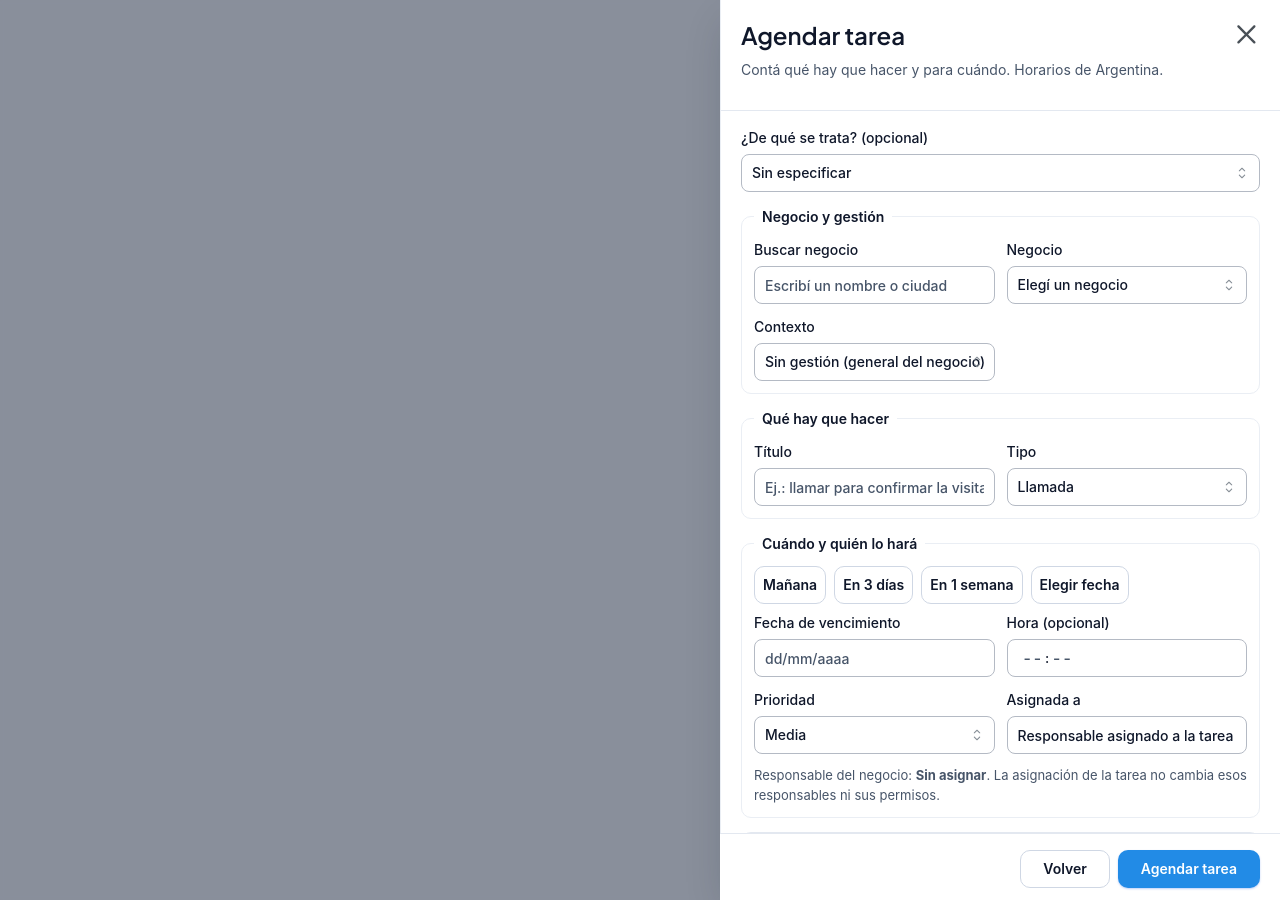
it: a business search with a single result offers it in one click (spec 104, 32; review M2: never picked by itself) › one result shows «Elegir H9 · Hotel Sol · Colón» under the search, keeps the search mounted and picks nothing until clicked
The width and height of the screenshot is (1280, 900).
Type "sol" into the field labelled "Buscar negocio" at coordinates (874, 285), box x1=754 y1=266 x2=994 y2=304
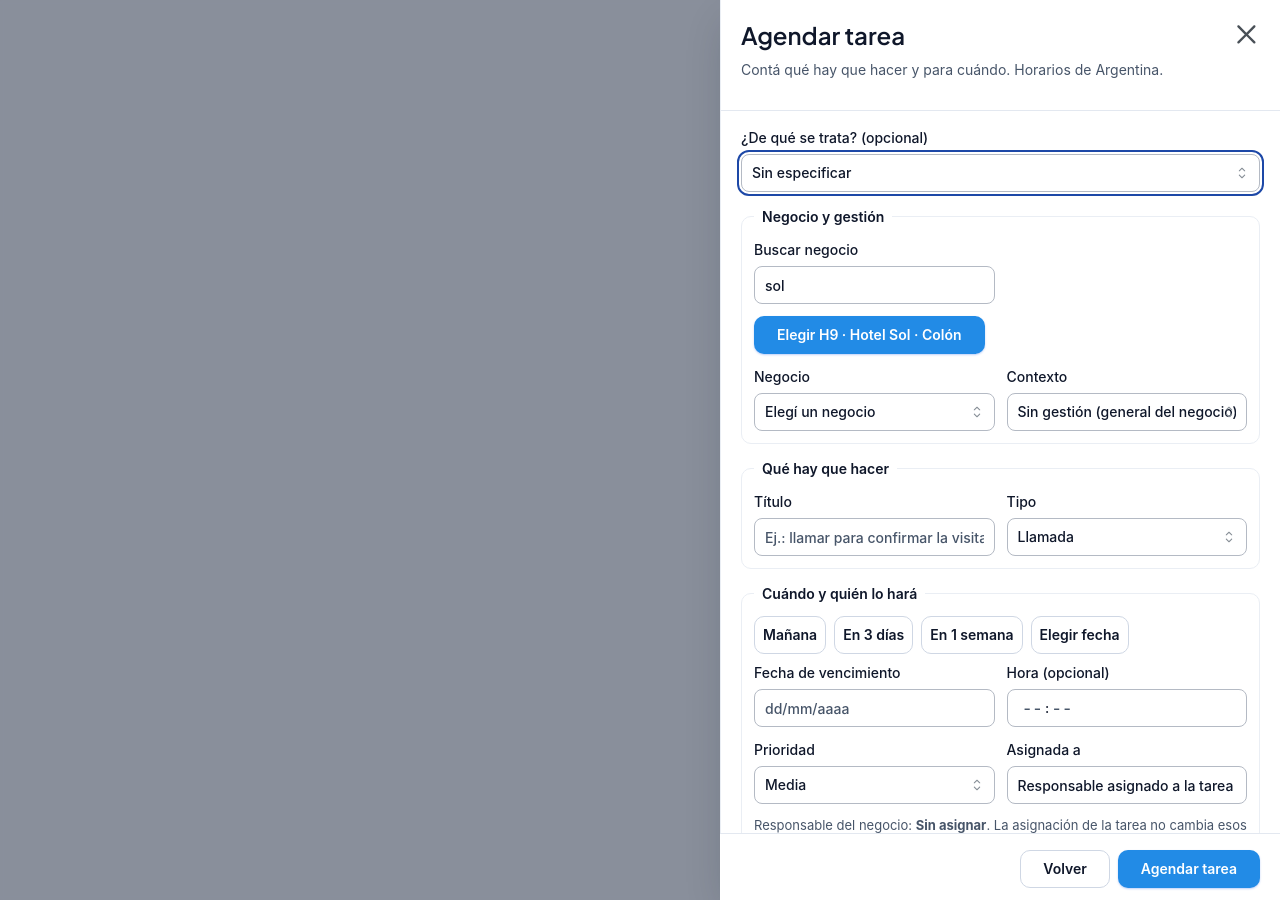
Expected: the dropdown labelled "Negocio" shows "Elegí un negocio", x1=754 y1=393 x2=994 y2=431
Expected: the button "Elegir H9 · Hotel Sol · Colón" is shown, x1=754 y1=316 x2=984 y2=354
Replace the text in the field labelled "Buscar negocio" with "sol y" at coordinates (874, 285), box x1=754 y1=266 x2=994 y2=304
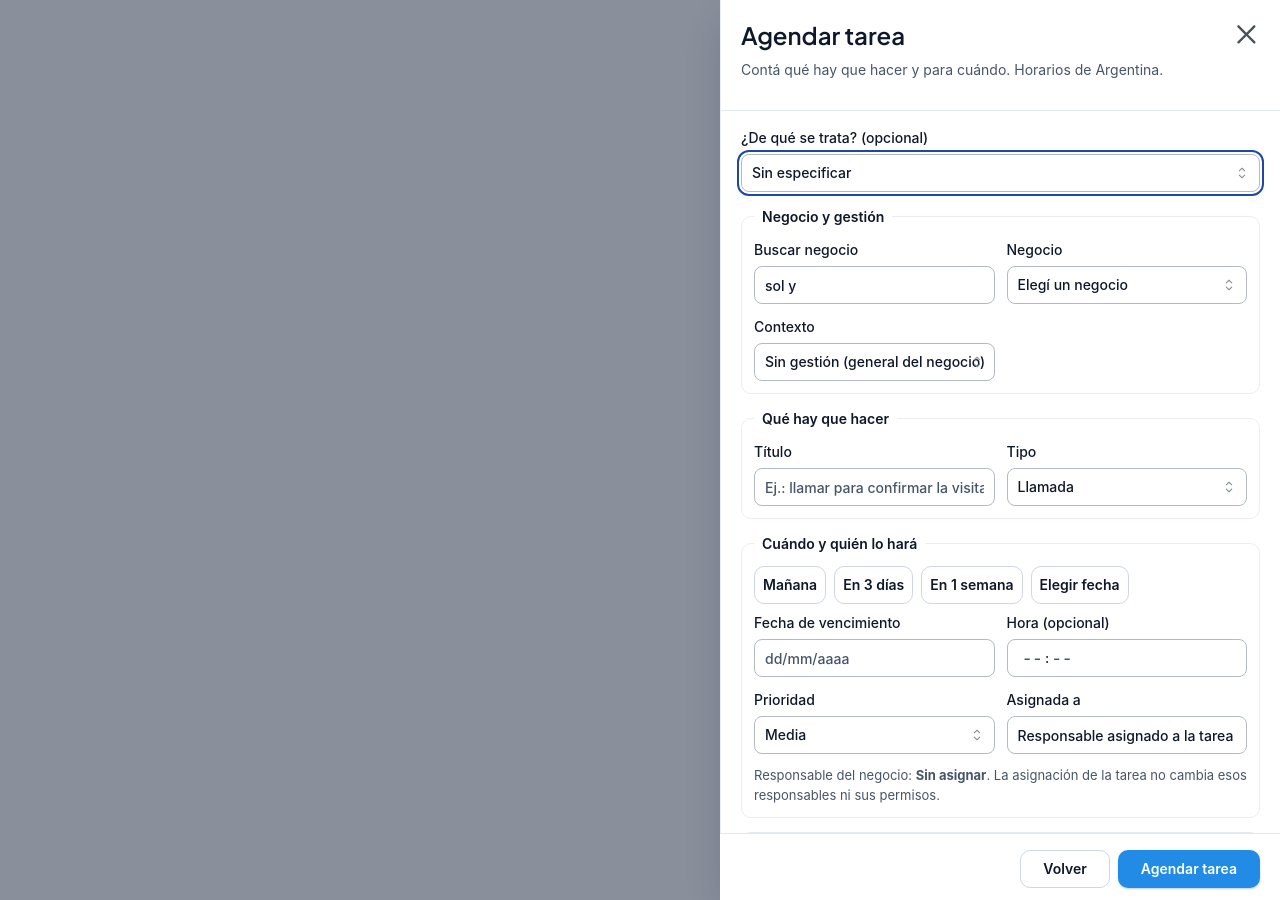
Expected: the button "Elegir H9 · Hotel Sol · Colón" is gone
Replace the text in the field labelled "Buscar negocio" with "sol" at coordinates (874, 285), box x1=754 y1=266 x2=994 y2=304
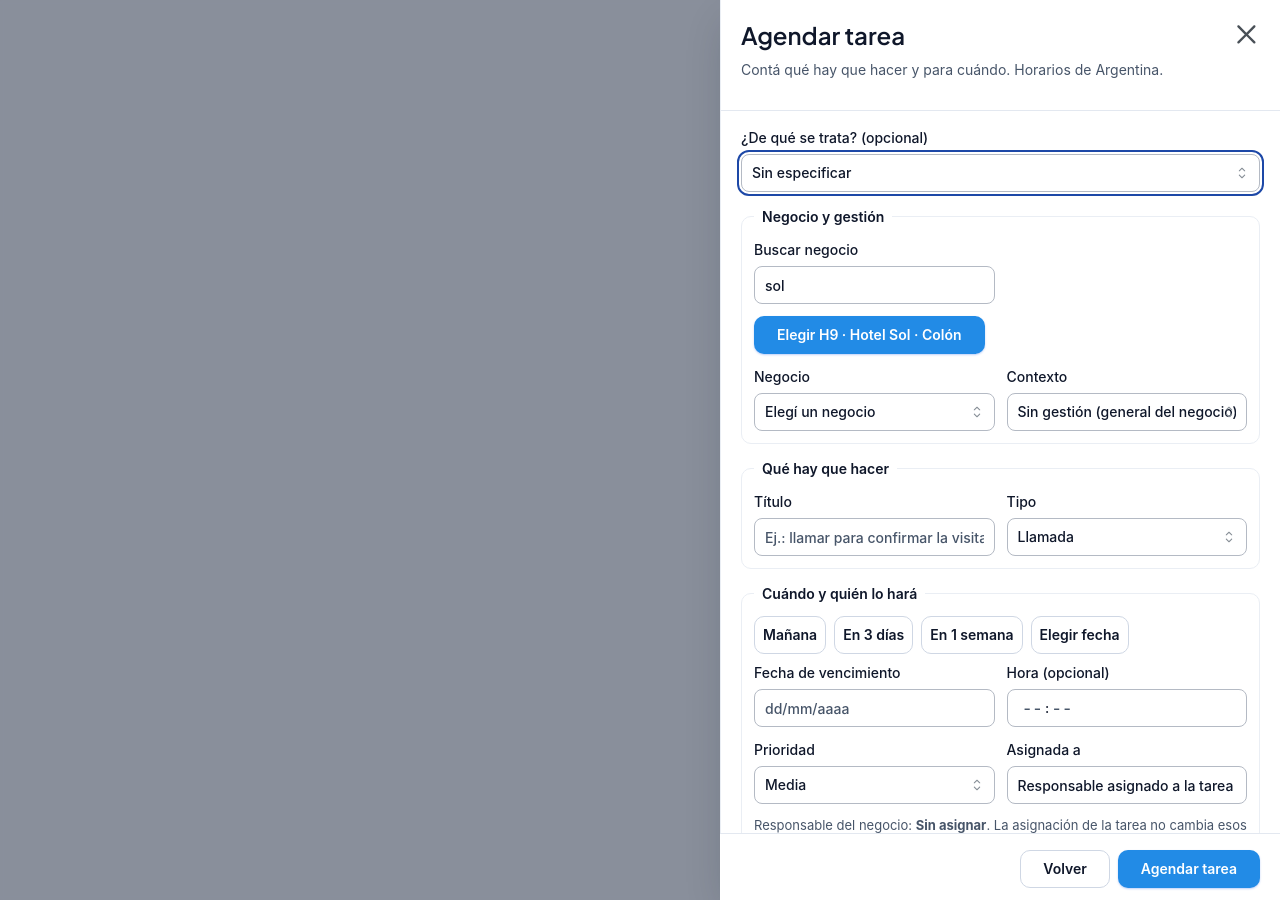
Click the button "Elegir H9 · Hotel Sol · Colón" at coordinates (869, 335), box x1=754 y1=316 x2=984 y2=354
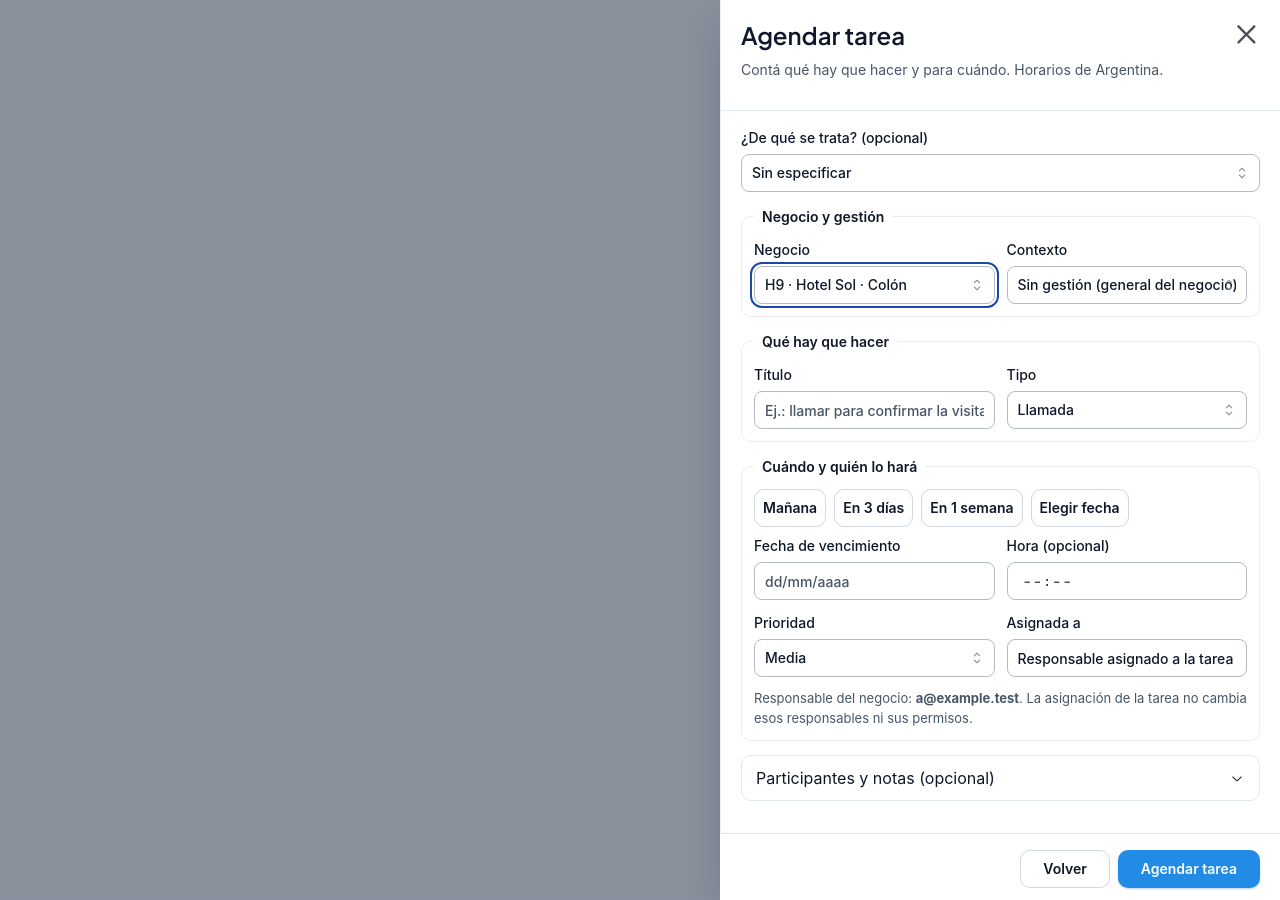
Expected: the dropdown labelled "Negocio" shows "H9 · Hotel Sol · Colón", x1=754 y1=266 x2=994 y2=304
